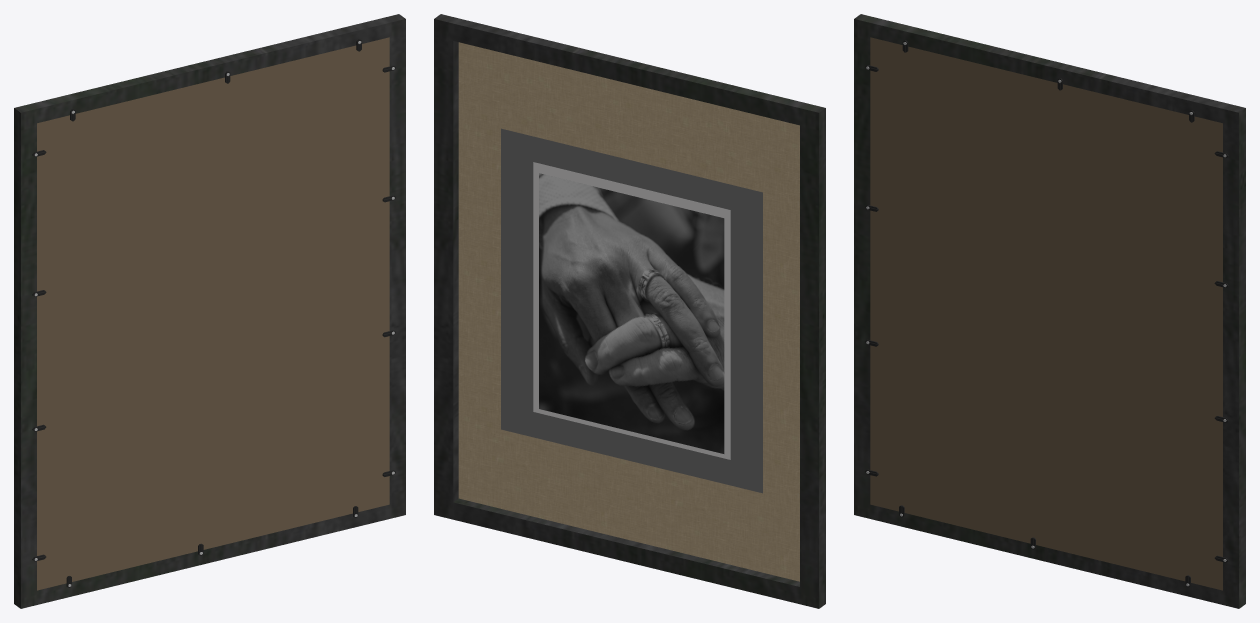
The model's file is 6k_photo_hands3.fbx.
The picture shows the model from 3 angles, left to right: view 1: azimuth 30°, elevation 25°; view 2: azimuth 150°, elevation 25°; view 3: azimuth 330°, elevation 25°; orthographic projection.
Parts seen in each view (by area): view 1: Group3, Group5; view 2: Group2, Group5; view 3: Group3, Group5.
Boxes of the visible parts, x1,y1,x2,y2 form: Group3: (37, 37, 389, 590); Group5: (14, 14, 405, 608); Group2: (458, 42, 799, 581); Group5: (434, 14, 825, 608); Group3: (870, 37, 1222, 590); Group5: (854, 14, 1245, 608).
Size of the model in its own units: 17.8 by 21.92 by 0.6181.
